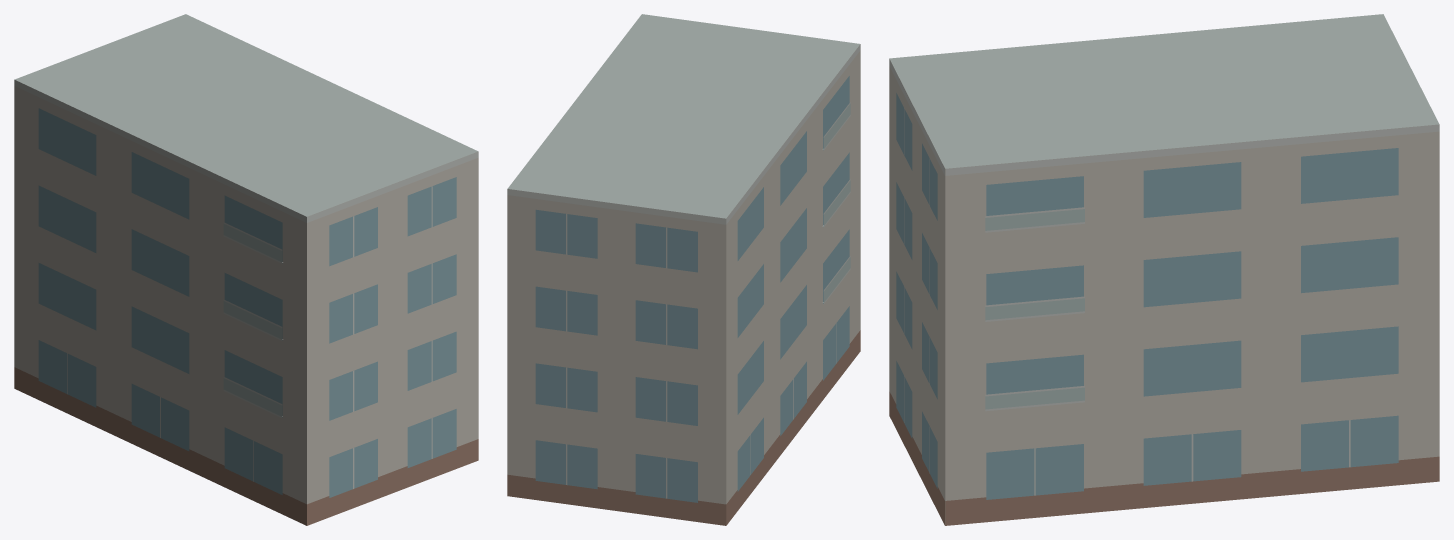
Rendered from survey-upis-32984269.glb.
3 renders of one model, left to right at view 1: azimuth 30°, elevation 25°; view 2: azimuth 150°, elevation 25°; view 3: azimuth 270°, elevation 25°, orthographic. The views are drawn at different scales.
Visible parts, largest first — view 1: survey-upis-32984269.tmp; view 2: survey-upis-32984269.tmp; view 3: survey-upis-32984269.tmp.
Part boxes in pixels (x1,y1,x2,y2): survey-upis-32984269.tmp: (14, 14, 478, 525); survey-upis-32984269.tmp: (507, 14, 860, 525); survey-upis-32984269.tmp: (889, 14, 1439, 525).
Size of the model in its own units: 11.35 by 12.2 by 17.05.
